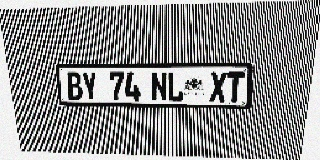4: (124, 72, 140, 101)
7: (108, 72, 125, 101)
B: (66, 72, 83, 101)
L: (167, 72, 184, 102)
N: (151, 72, 167, 101)
T: (226, 72, 245, 102)
X: (209, 72, 227, 102)
Y: (81, 72, 98, 101)
